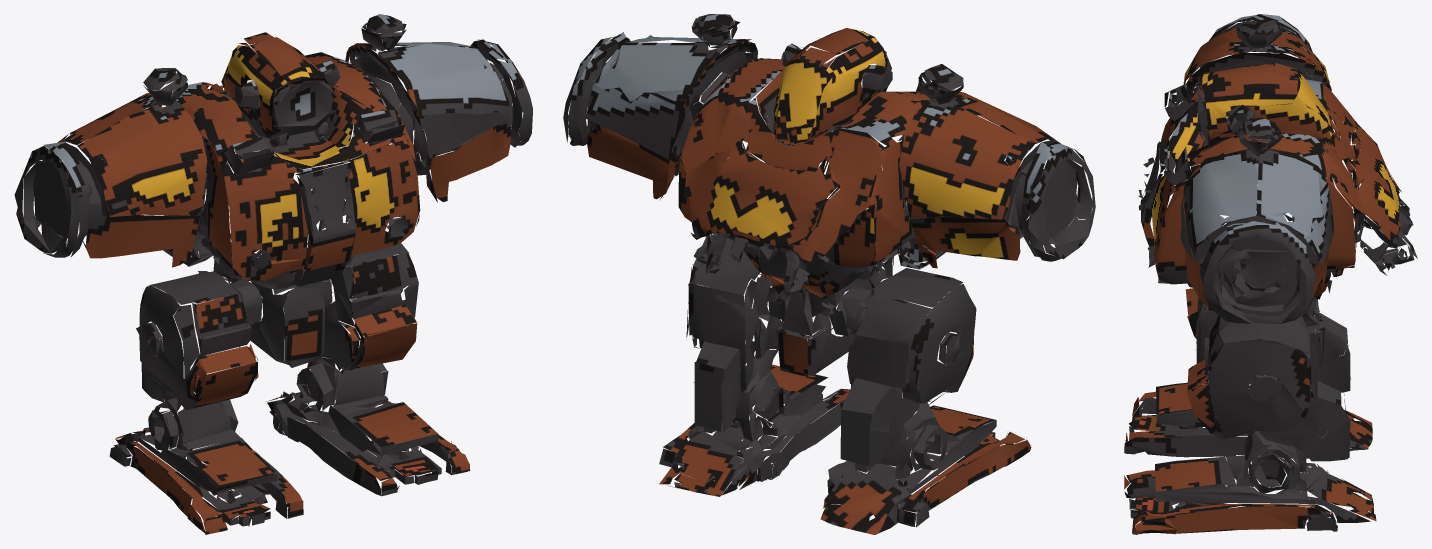
Rendered from ch_brute.glb.
The picture shows the model from 3 angles, left to right: view 1: azimuth 30°, elevation 25°; view 2: azimuth 150°, elevation 25°; view 3: azimuth 270°, elevation 25°; orthographic projection. The views are drawn at different scales.
Visible parts, largest first — view 1: ch_brute, limb_leg_l, limb_leg_r; view 2: ch_brute, limb_leg_l, limb_leg_r; view 3: ch_brute, limb_leg_r, limb_leg_l.
Boxes of the visible parts, x1,y1,x2,y2 form: ch_brute: (14,14,532,367); limb_leg_l: (109,305,303,534); limb_leg_r: (267,285,470,496); ch_brute: (563,14,1095,376); limb_leg_l: (820,282,1031,534); limb_leg_r: (659,273,850,496); ch_brute: (1138,14,1417,370); limb_leg_r: (1124,323,1376,534); limb_leg_l: (1124,288,1372,458).
Bounding box in the file's own units: 0.7396 × 0.61 × 0.4012.
Materials: 1 (1 with a texture image).
